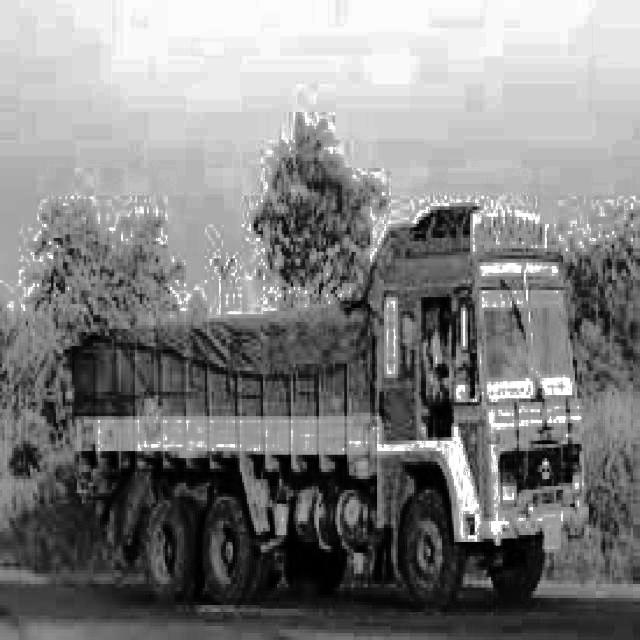HCV: (51, 156, 598, 640)
